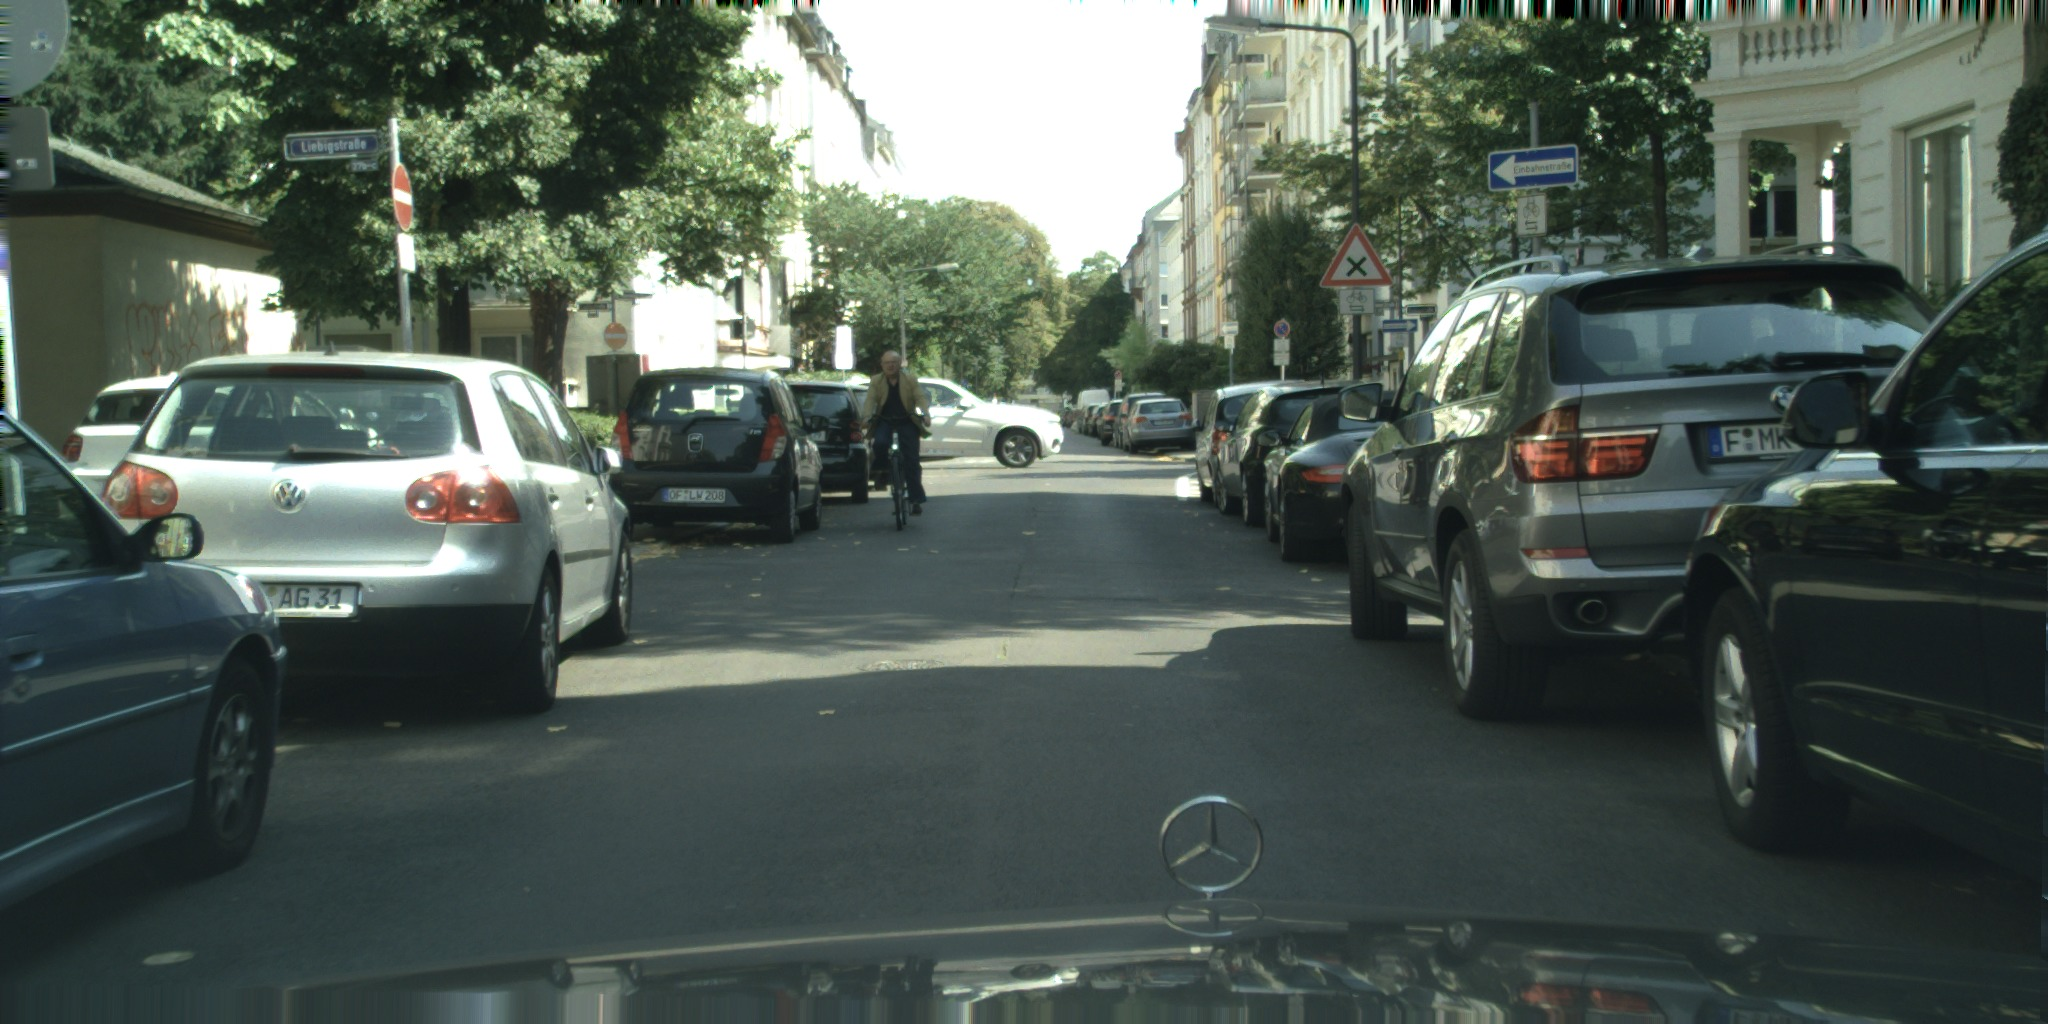bicycle: (866, 411, 923, 531)
car: (1337, 240, 1961, 720), (1683, 228, 2047, 891), (71, 341, 633, 711), (0, 408, 289, 912), (591, 368, 830, 543), (1257, 389, 1407, 560), (1215, 380, 1387, 526), (838, 377, 1063, 469), (61, 374, 183, 521), (1190, 380, 1303, 501), (779, 382, 869, 503), (839, 386, 889, 490), (1120, 397, 1195, 453), (1112, 391, 1167, 448), (1098, 399, 1128, 447)
rider: (863, 349, 931, 514)
